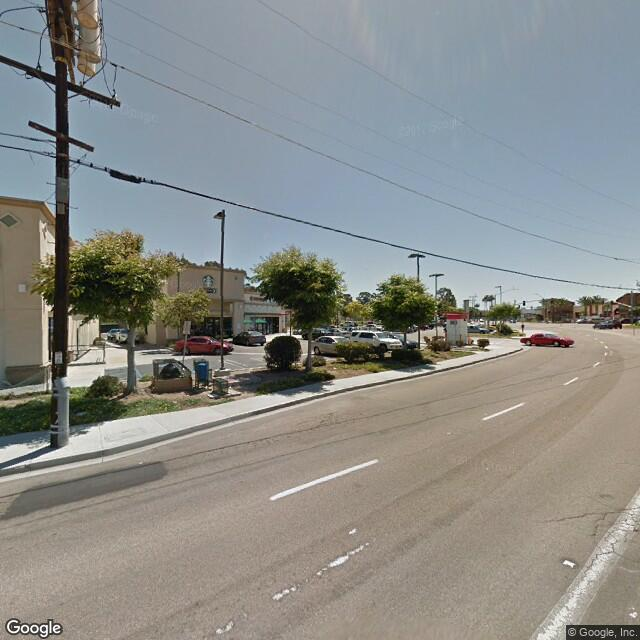litter: (332, 366, 338, 372), (173, 400, 178, 405)
